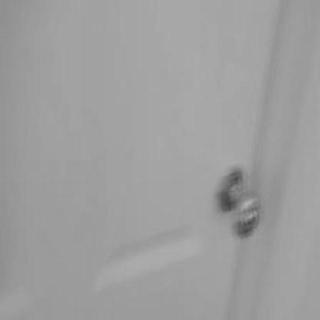other: (210, 168, 272, 235)
